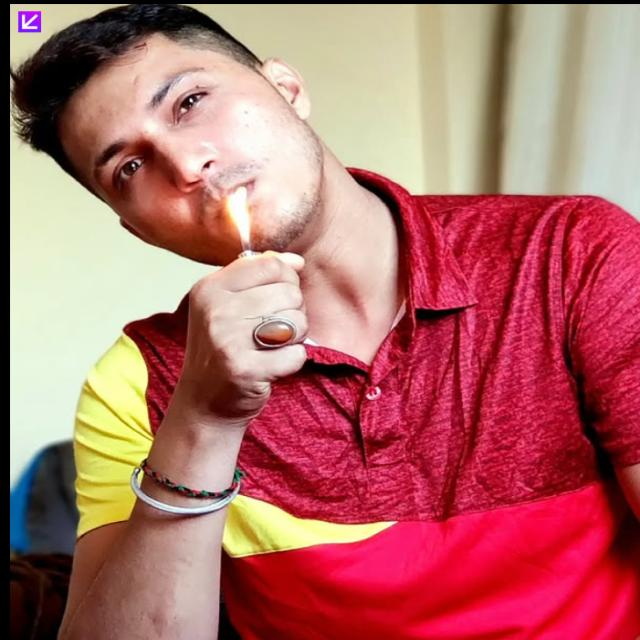fire: (226, 188, 251, 252)
